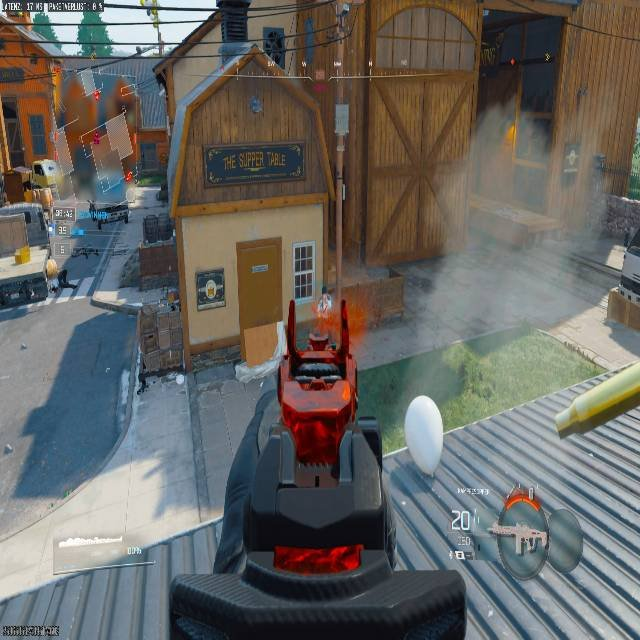head: (274, 321, 355, 425), (403, 397, 443, 459), (269, 31, 277, 40)
player: (212, 319, 468, 636), (264, 30, 285, 67)
